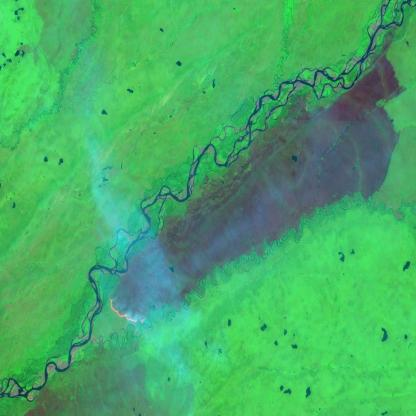fire: (104, 292, 151, 336)
